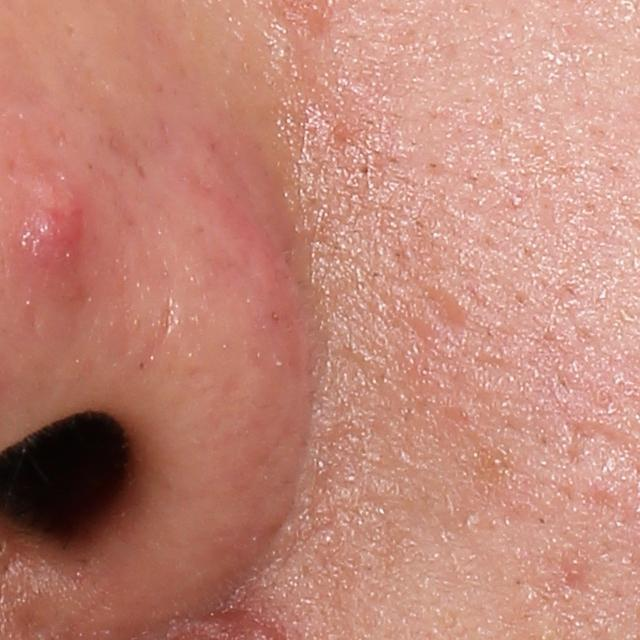atrophic_scar: (555, 410, 633, 476), (409, 277, 483, 336)
papule: (13, 174, 85, 307)
